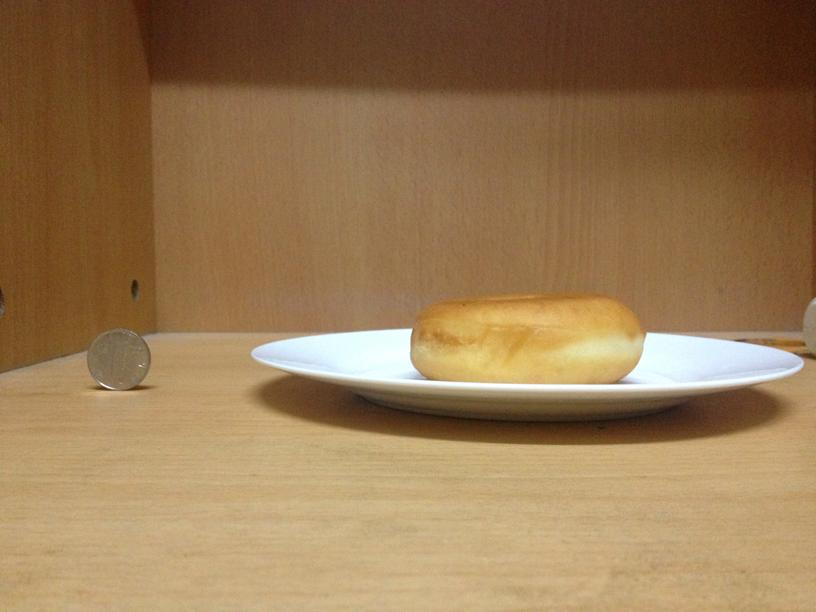coin: (87, 328, 150, 390)
doughnut: (404, 294, 644, 383)
